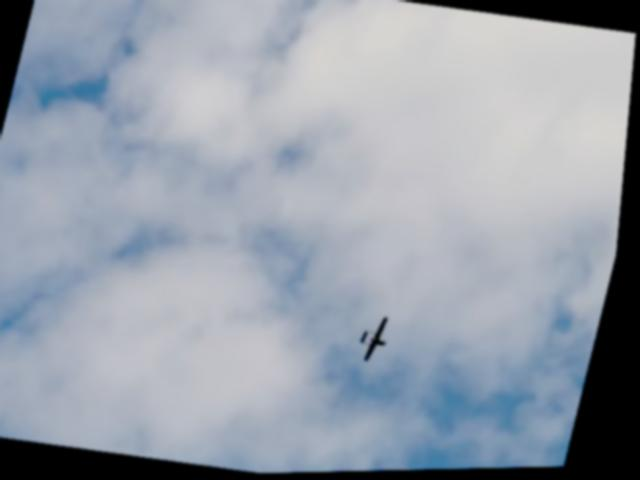uav: (360, 312, 401, 367)
